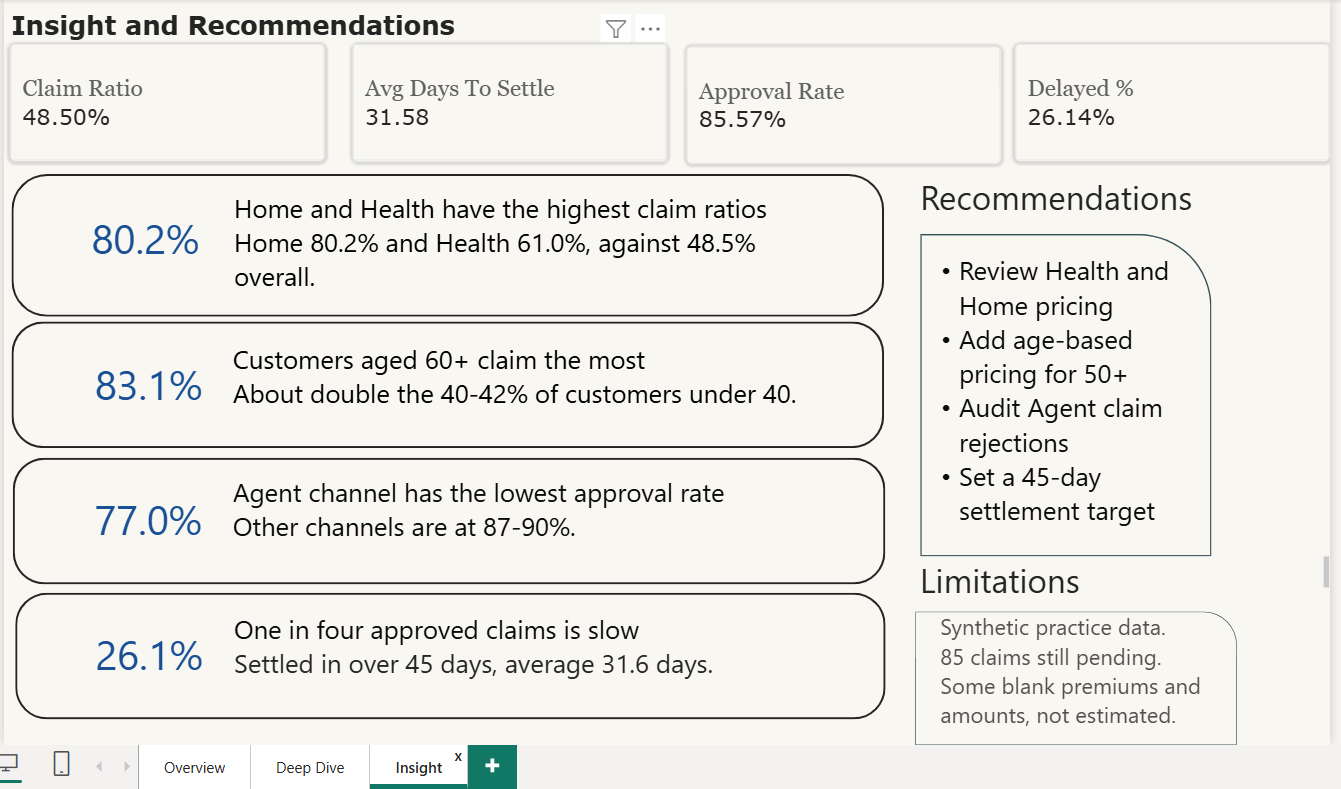

This screenshot's page, from the dashboard's own definition file:
{"tool":"powerbi","page":{"name":"Insight","canvas":[1920,1080],"ordinal":2},"visuals":[{"type":"textbox","box":[10.9,14.5,693.1,50.7],"z":0},{"type":"cardVisual","fields":{"Data":["Calendar.Claim Ratio"]},"box":[9.2,65.8,455.4,169.2],"z":1000},{"type":"cardVisual","fields":{"Data":["Calendar.Approval Rate"]},"box":[987.7,68.9,455.4,169.2],"z":2000},{"type":"cardVisual","fields":{"Data":["Calendar.Avg Days To Settle"]},"box":[504.6,65.8,455.4,169.2],"z":3000},{"type":"cardVisual","fields":{"Data":["Calendar.Delayed %"]},"box":[1464.6,65.8,455.4,169.2],"z":4000},{"type":"shape","box":[10,253.3,1263.3,206.7],"z":5000},{"type":"shape","box":[16.7,860,1260,183.3],"z":6000},{"type":"shape","box":[10,466.7,1263.3,183.3],"z":7000},{"type":"shape","box":[13.3,663.3,1263.3,183.3],"z":8000},{"type":"textbox","box":[332.3,276.9,843.1,181.5],"z":10000},{"type":"textbox","box":[85.1,517.6,247.9,110.4],"z":10001},{"type":"textbox","box":[126.2,305.8,207.6,123.4],"z":10002},{"type":"textbox","box":[331,496.6,883.7,165.5],"z":10003},{"type":"textbox","box":[331,687.3,883.7,157.1],"z":10004},{"type":"textbox","box":[84.2,712.6,246.9,109.4],"z":10005},{"type":"textbox","box":[84.2,909,249.7,101],"z":10006},{"type":"textbox","box":[333.8,886.5,880.9,123.4],"z":10007},{"type":"textbox","box":[1326.5,253.4,421.7,86.9],"z":10008},{"type":"shape","box":[1326.5,340.2,421.7,466.9],"z":10009},{"type":"textbox","box":[1326.5,367.4,421.7,418],"z":10010},{"type":"textbox","box":[1327,808,591.9,53.3],"z":10011},{"type":"textbox","box":[1355,886.5,505,193.6],"z":10012},{"type":"shape","box":[1318.5,886.5,465.7,193.6],"z":10014}]}

Visuals, with their boxes on the page's 1920x1080 design canvas (x1, y1, x2, y2). These are canvas units, not pixel positions in the 1341x789 screenshot, which may show the page scaled, cropped or inside an application window:
textbox: <bbox>11, 14, 704, 65</bbox>
cardVisual - Calendar.Claim Ratio: <bbox>9, 66, 465, 235</bbox>
cardVisual - Calendar.Approval Rate: <bbox>988, 69, 1443, 238</bbox>
cardVisual - Calendar.Avg Days To Settle: <bbox>505, 66, 960, 235</bbox>
cardVisual - Calendar.Delayed %: <bbox>1465, 66, 1920, 235</bbox>
shape: <bbox>10, 253, 1273, 460</bbox>
shape: <bbox>17, 860, 1277, 1043</bbox>
shape: <bbox>10, 467, 1273, 650</bbox>
shape: <bbox>13, 663, 1277, 847</bbox>
textbox: <bbox>332, 277, 1175, 458</bbox>
textbox: <bbox>85, 518, 333, 628</bbox>
textbox: <bbox>126, 306, 334, 429</bbox>
textbox: <bbox>331, 497, 1215, 662</bbox>
textbox: <bbox>331, 687, 1215, 844</bbox>
textbox: <bbox>84, 713, 331, 822</bbox>
textbox: <bbox>84, 909, 334, 1010</bbox>
textbox: <bbox>334, 886, 1215, 1010</bbox>
textbox: <bbox>1326, 253, 1748, 340</bbox>
shape: <bbox>1326, 340, 1748, 807</bbox>
textbox: <bbox>1326, 367, 1748, 785</bbox>
textbox: <bbox>1327, 808, 1919, 861</bbox>
textbox: <bbox>1355, 886, 1860, 1080</bbox>
shape: <bbox>1318, 886, 1784, 1080</bbox>
